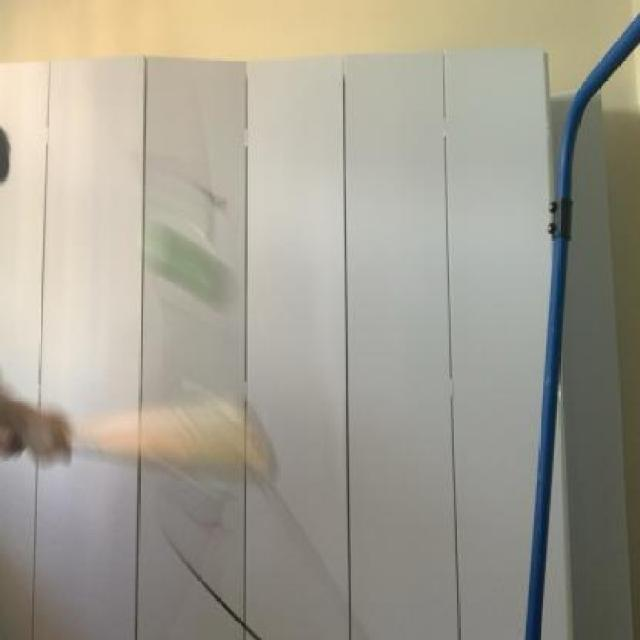baseball: (147, 220, 238, 308)
